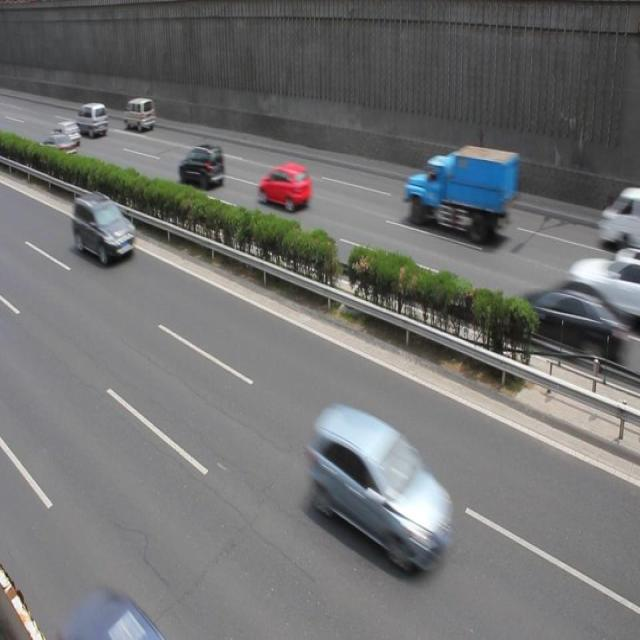bus: (400, 149, 520, 235)
car: (306, 404, 452, 570), (509, 277, 626, 364), (566, 246, 640, 326), (72, 192, 136, 265), (257, 161, 310, 214), (178, 145, 222, 192), (40, 132, 76, 164), (51, 118, 80, 146)
truck: (596, 188, 640, 252), (122, 95, 155, 133), (75, 100, 107, 138)
